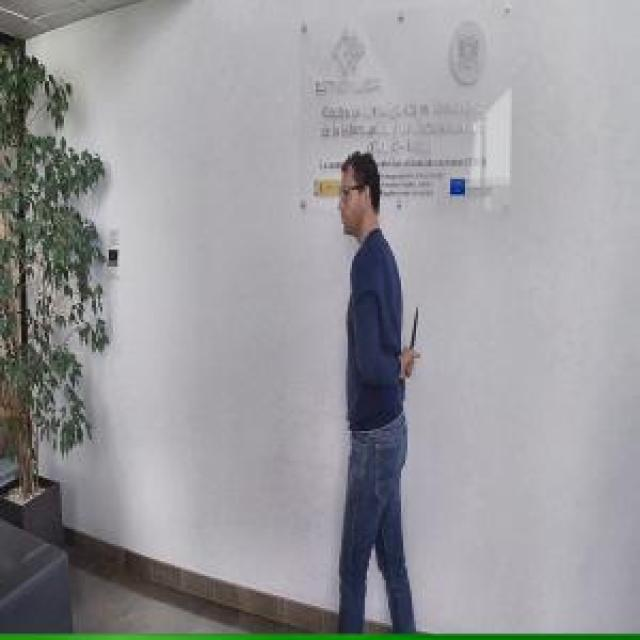knife: (403, 298, 422, 381)
